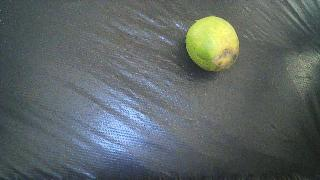DESECHO: (185, 16, 239, 71)
